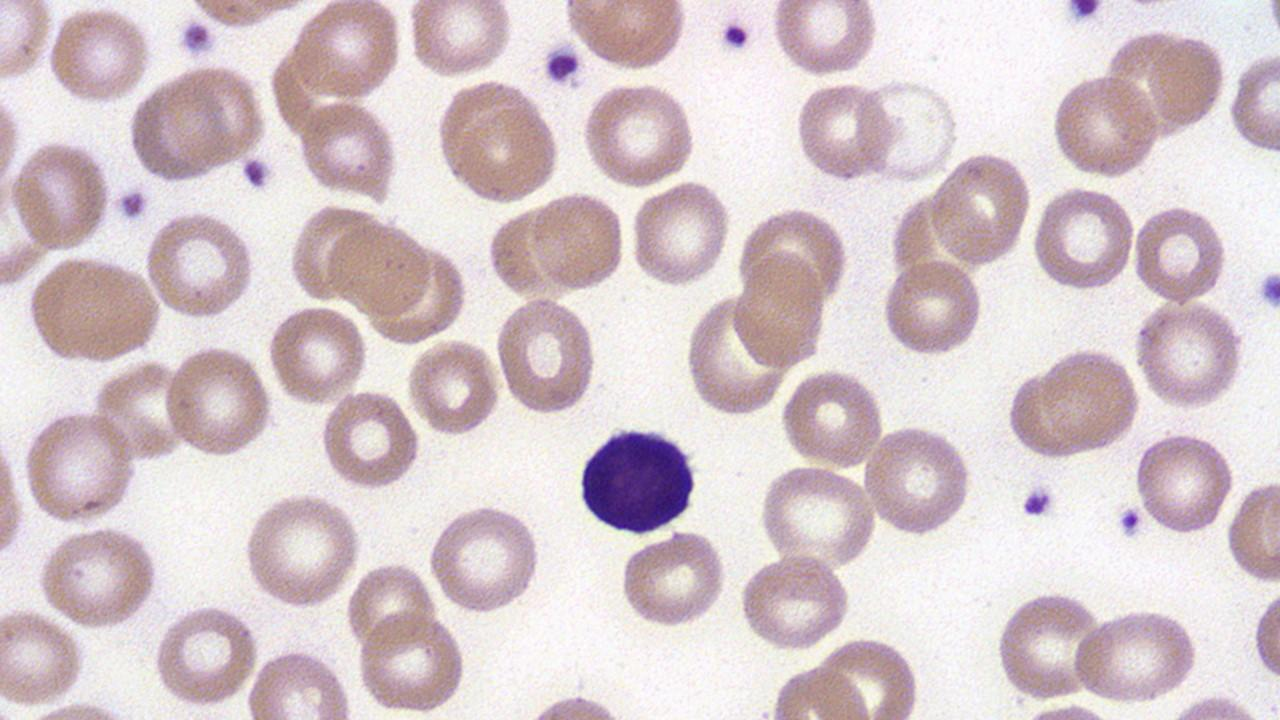Platelets: (540, 38, 583, 90), (175, 17, 216, 58), (239, 154, 277, 193), (1019, 484, 1057, 522), (114, 184, 150, 224), (718, 18, 754, 56), (1254, 267, 1280, 316), (1060, 1, 1108, 26), (1117, 503, 1143, 539)
RBC: (24, 252, 165, 365), (245, 487, 362, 609), (21, 408, 140, 524), (756, 461, 878, 573), (36, 522, 162, 630), (1132, 297, 1248, 412), (427, 502, 544, 616), (683, 290, 788, 417), (577, 80, 697, 190), (860, 423, 976, 536), (161, 342, 273, 459), (142, 208, 257, 321), (492, 295, 599, 416), (992, 588, 1105, 702), (1073, 606, 1203, 704), (1049, 70, 1163, 180), (928, 149, 1033, 268), (728, 249, 830, 370), (8, 136, 113, 253), (443, 102, 562, 204), (124, 77, 235, 185), (355, 609, 469, 714), (736, 552, 854, 653), (627, 177, 732, 290), (618, 526, 730, 630), (1132, 428, 1236, 538), (159, 63, 270, 166), (290, 2, 404, 102), (1032, 184, 1136, 293), (856, 76, 960, 184), (1038, 344, 1140, 454), (779, 366, 886, 470), (297, 99, 401, 206), (153, 604, 259, 708), (265, 303, 370, 407), (44, 6, 154, 105), (879, 257, 985, 359), (91, 358, 192, 465), (318, 387, 422, 490), (324, 218, 432, 316), (791, 78, 890, 184), (1129, 203, 1231, 305), (528, 189, 628, 292), (406, 336, 502, 438), (562, 1, 690, 74), (0, 606, 89, 708), (1144, 29, 1228, 137), (344, 558, 437, 653), (767, 2, 881, 78), (404, 1, 514, 79), (486, 204, 569, 301), (244, 648, 355, 718), (1004, 365, 1084, 461), (766, 662, 873, 718), (1225, 474, 1279, 584), (1227, 49, 1279, 155), (1, 2, 55, 88), (0, 414, 27, 572), (1248, 583, 1280, 693)
WBC: (573, 420, 703, 536)
